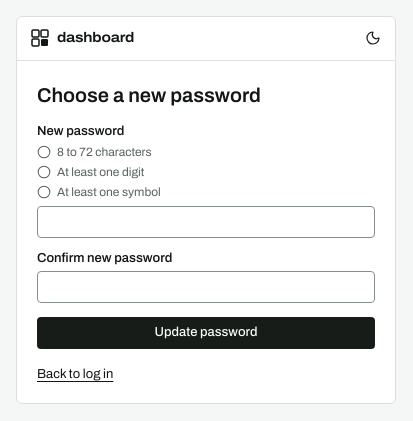
Test: ResetPasswordPage › shows "Link invalid or expired" when the server rejects the token
Type "brand-new-pw-2@" into the password field labelled "New password" at (206, 222), box x1=37 y1=206 x2=375 y2=238
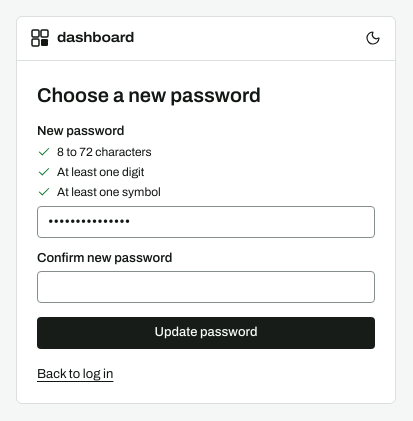
Type "brand-new-pw-2@" into the password field labelled "Confirm new password" at (206, 287), box x1=37 y1=271 x2=375 y2=303
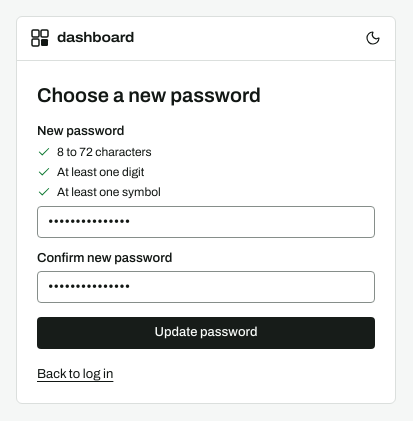
Click the button "Update password" at (206, 333), box x1=37 y1=317 x2=375 y2=349
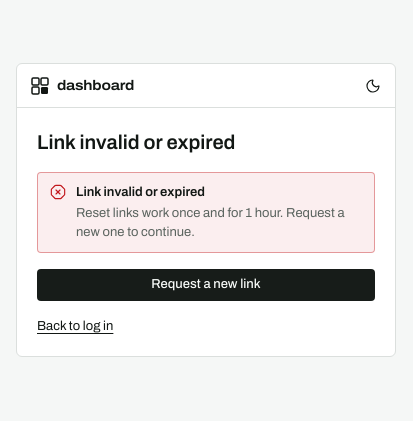
Now the heading "Link invalid or expired" is shown, box x1=37 y1=131 x2=236 y2=153
